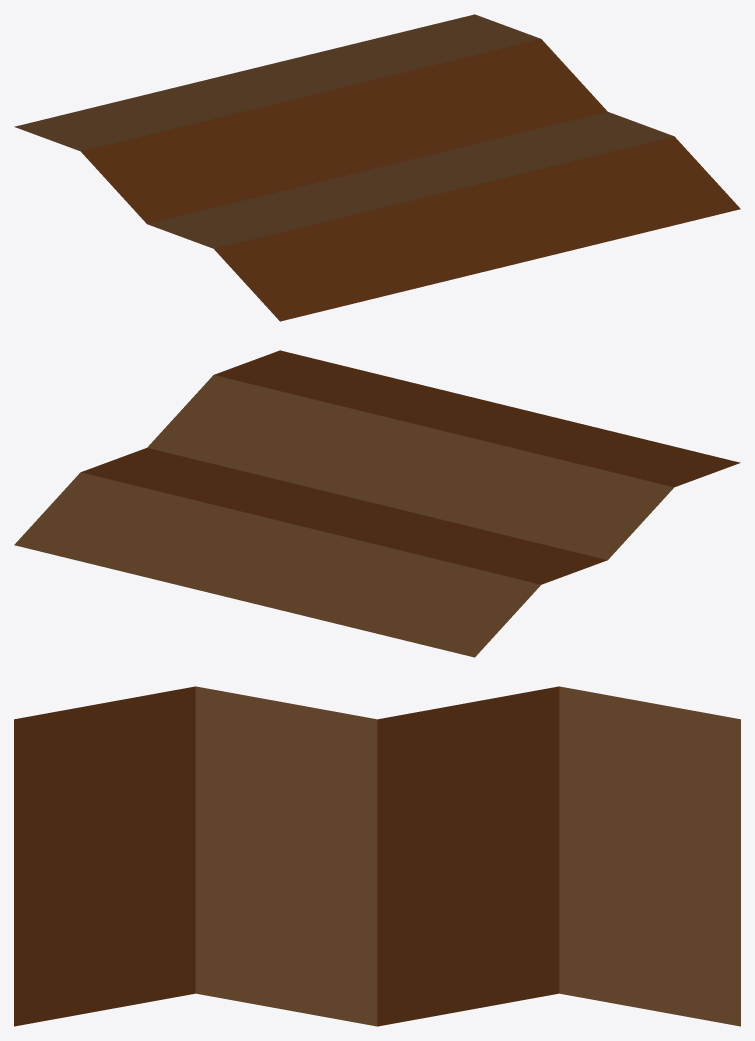
The model's file is Plowed.fbx.
3 renders of one model, top to bottom at view 1: azimuth 30°, elevation 25°; view 2: azimuth 150°, elevation 25°; view 3: azimuth 270°, elevation 25°, orthographic. The views are drawn at different scales.
Parts seen in each view (by area): view 1: Plowed; view 2: Plowed; view 3: Plowed.
Boxes of the visible parts, left/top/right/bottom form: Plowed: left=14, top=14, right=740, bottom=321; Plowed: left=14, top=350, right=740, bottom=657; Plowed: left=14, top=686, right=740, bottom=1026.
Bounding box in the file's own units: 100 × 5 × 100.
